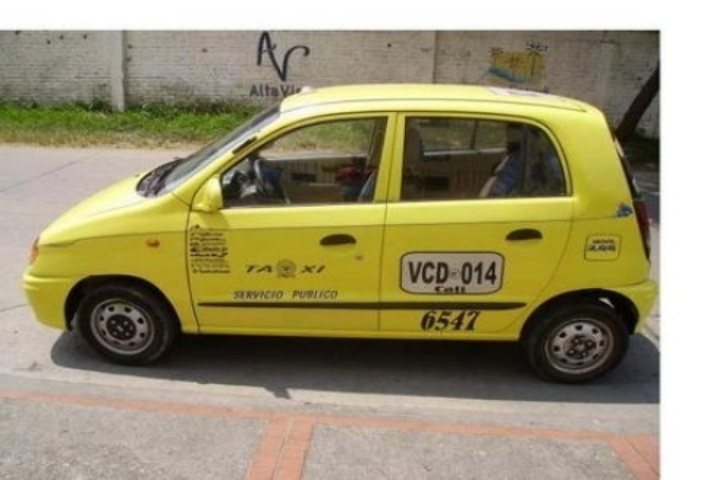taxi: (17, 84, 652, 395)
